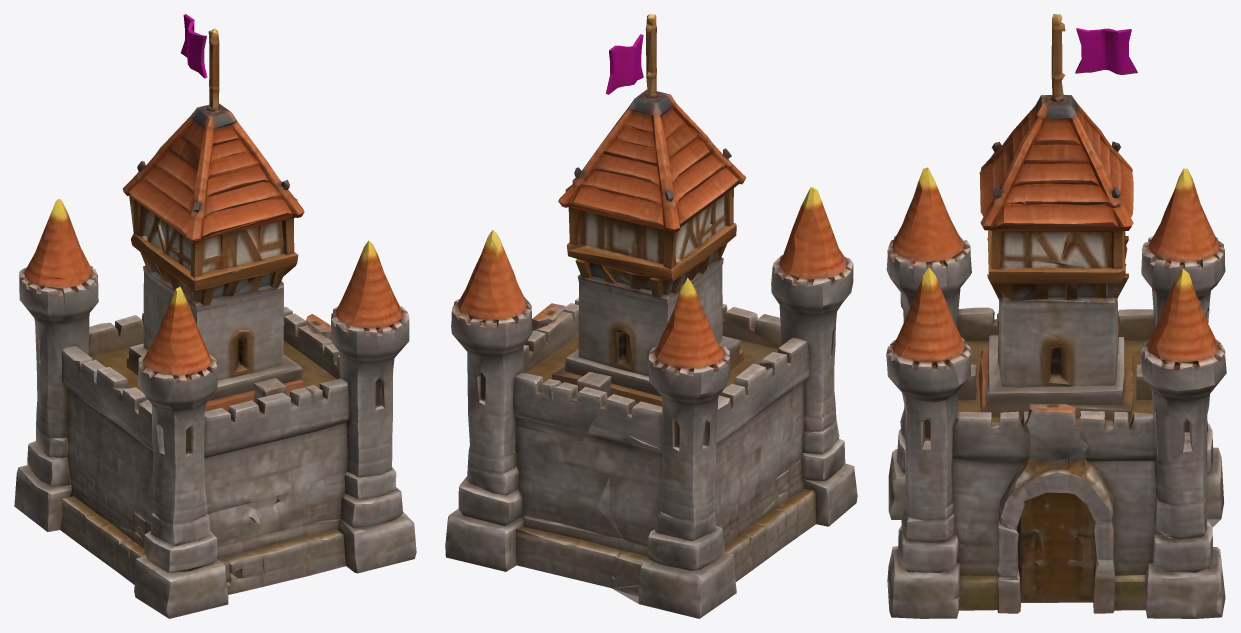
Rendered from castle2.lod1.glb.
The picture shows the model from 3 angles, left to right: view 1: azimuth 30°, elevation 25°; view 2: azimuth 150°, elevation 25°; view 3: azimuth 270°, elevation 25°; orthographic projection. The views are drawn at different scales.
Visible parts, largest first — view 1: castle2.lod1_uv; view 2: castle2.lod1_uv; view 3: castle2.lod1_uv.
Part boxes in pixels (x1,y1,x2,y2): castle2.lod1_uv: [14, 14, 416, 618]; castle2.lod1_uv: [445, 14, 857, 618]; castle2.lod1_uv: [886, 14, 1226, 618].
Size of the model in its own units: 1.04 by 1.9 by 1.09.
1 material, 1 textured.
